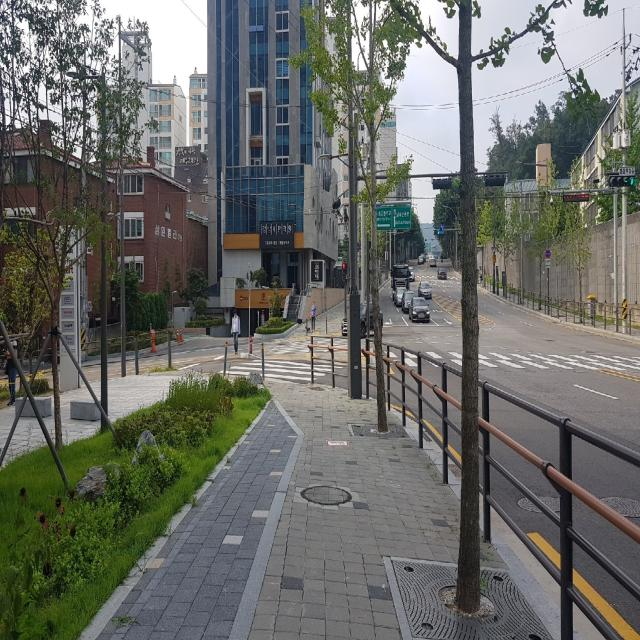빨간불: (342, 262, 346, 280)
횡단보도: (368, 344, 640, 374), (217, 359, 344, 381)
